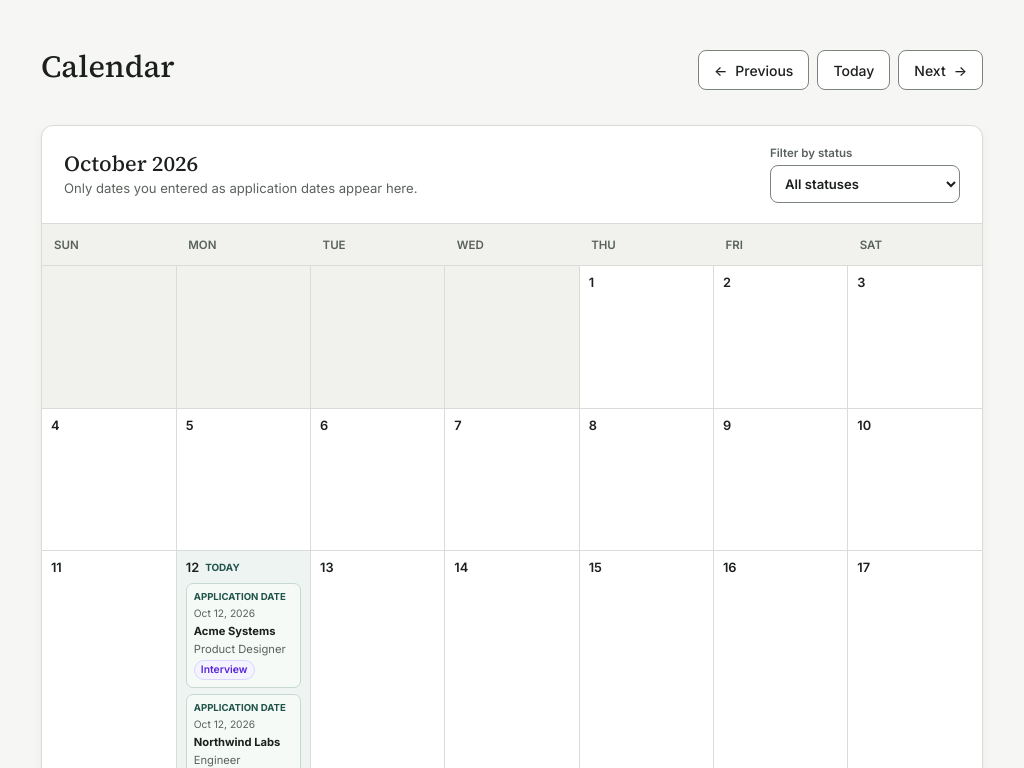
Test: Calendar › filters visible calendar events by application status
Check: the text "Northwind Labs" is shown, box [194,735,280,750]
Select "Interview" in the dropdown labelled "Filter by status" at (865, 184), box [770,165,960,203]
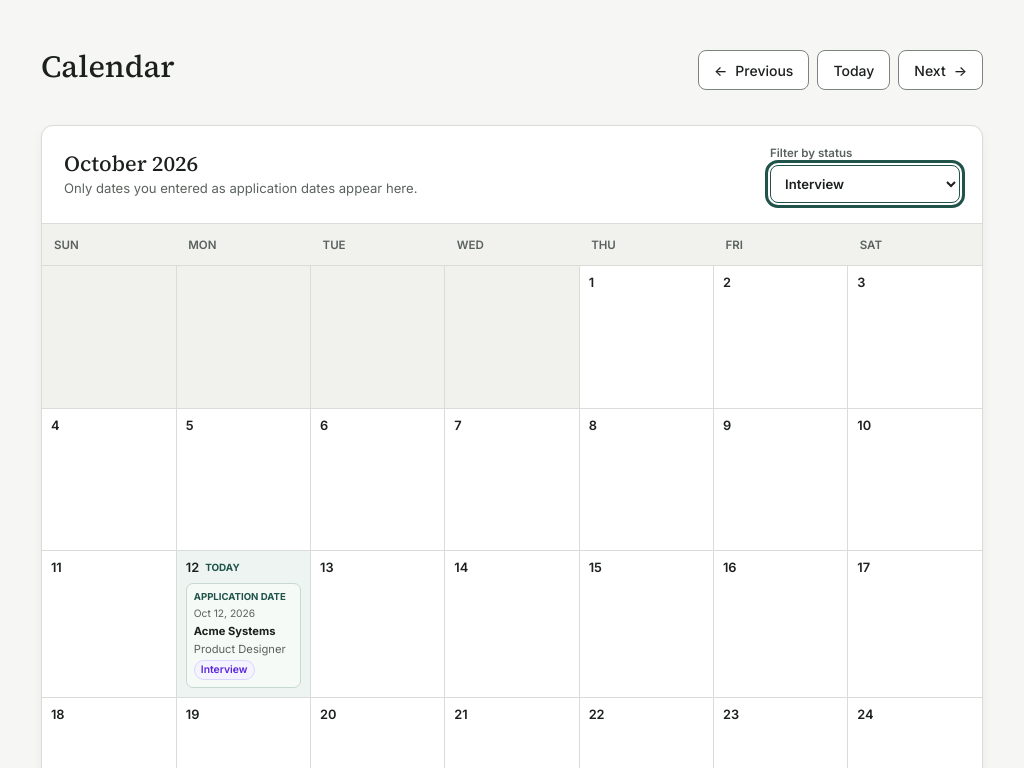
Check: the text "Acme Systems" is shown, box [194,624,276,639]
Check: the link "Northwind Labs" is gone
